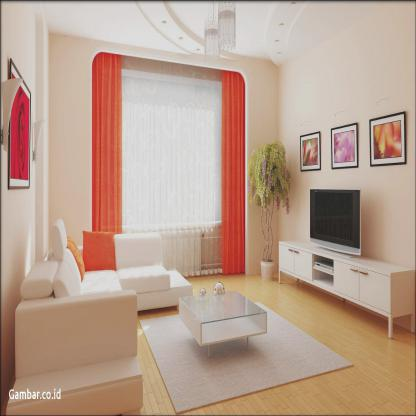meja: (176, 289, 271, 356)
sova: (9, 223, 195, 416)
tanaman: (250, 143, 282, 279)
